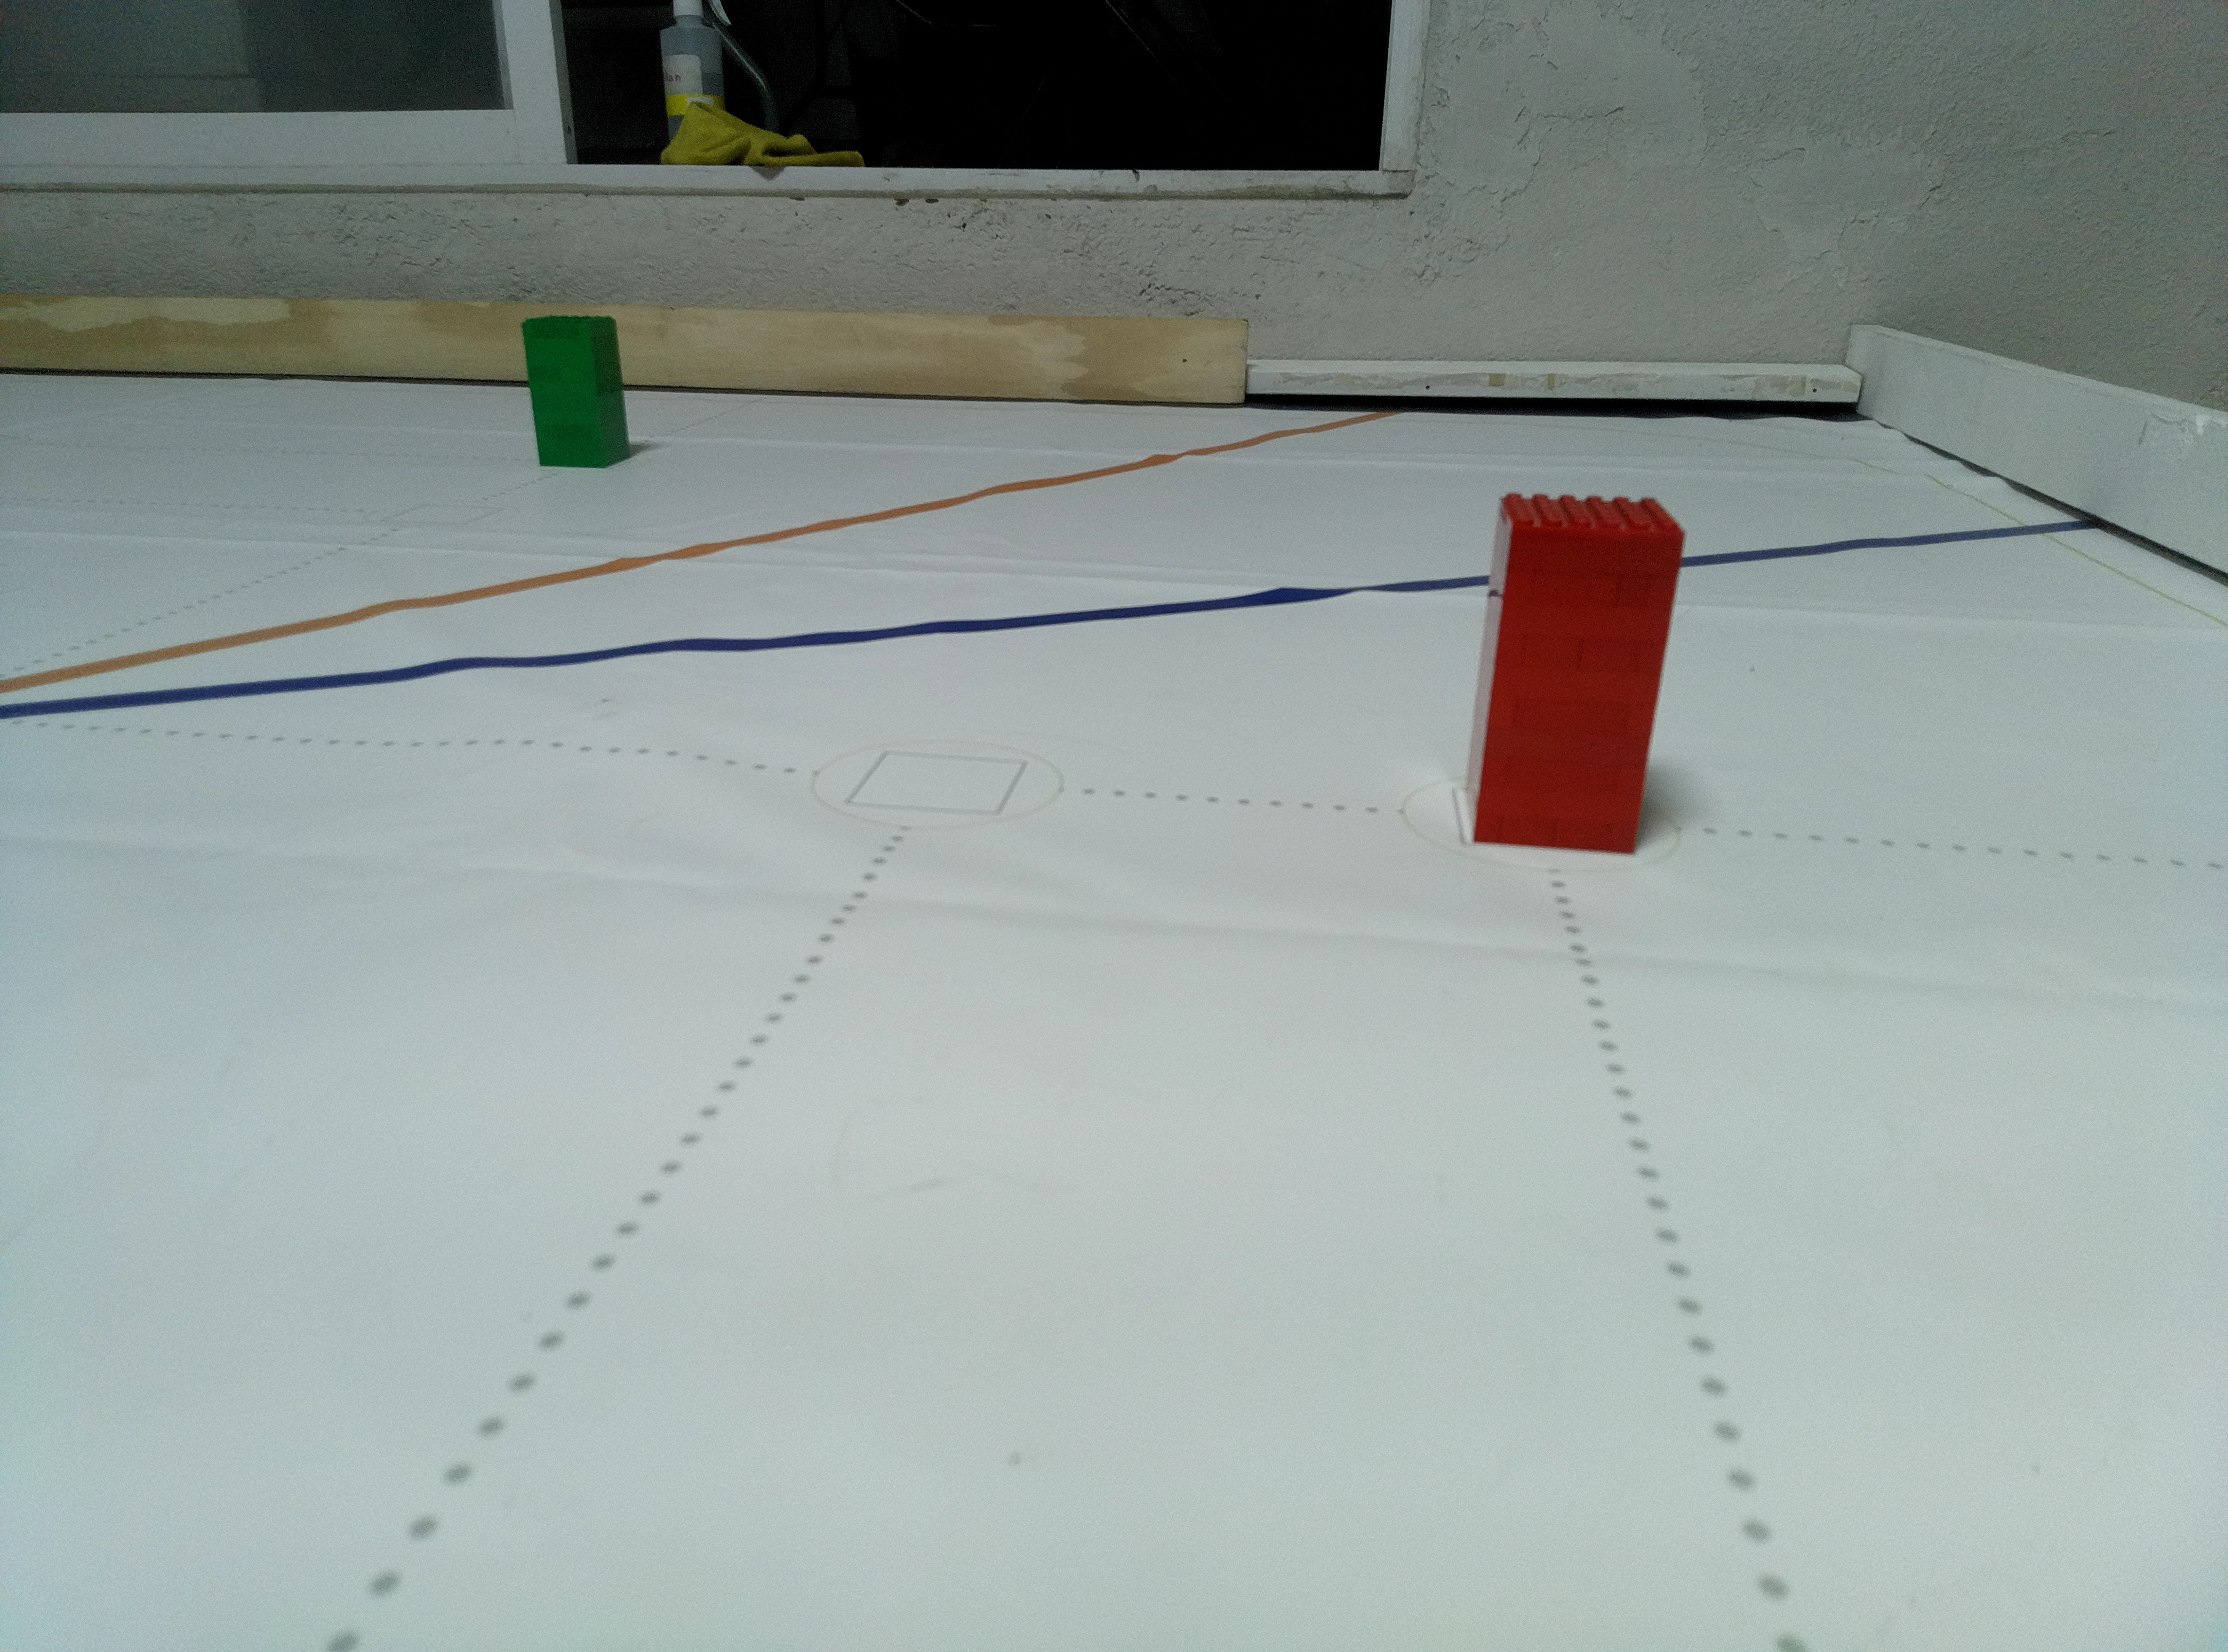greenbox: (519, 314, 635, 472)
redbox: (1458, 488, 1690, 857)
